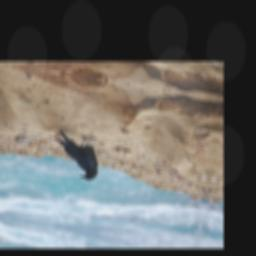Crow: (47, 128, 105, 184)
